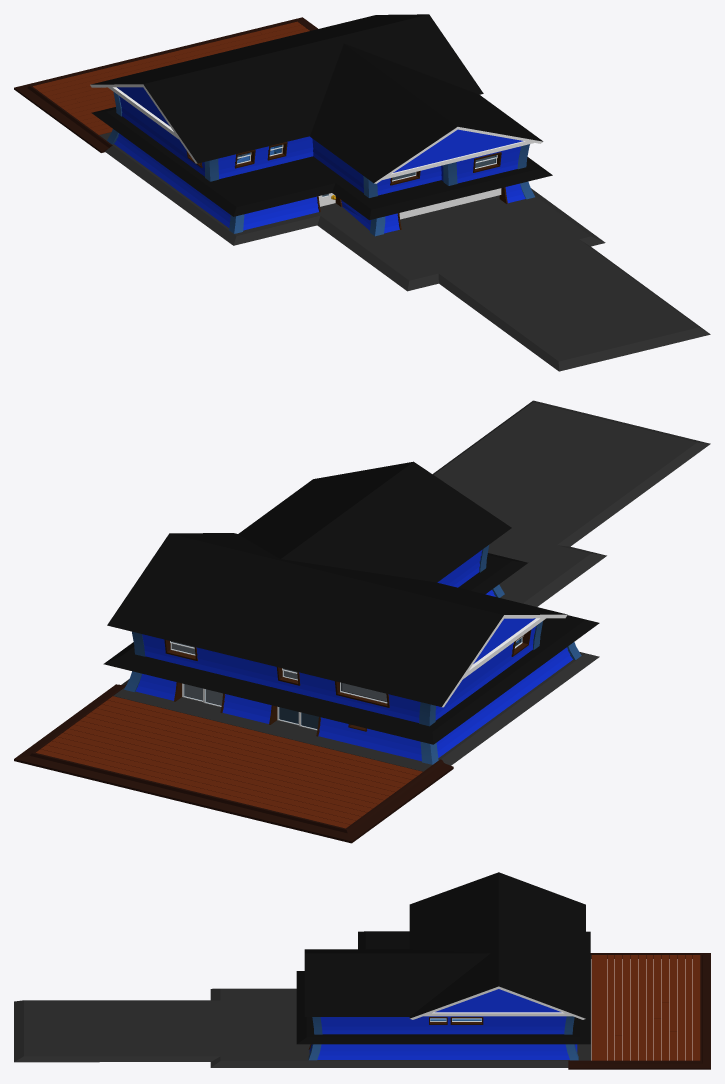
Rendered from House.FBX.
3 views of the same model, one above another, from view 1: azimuth 30°, elevation 25°; view 2: azimuth 150°, elevation 25°; view 3: azimuth 270°, elevation 25° (orthographic). The views are drawn at different scales.
Parts seen in each view (by area): view 1: GroundLayer, Box319, SecondLayer, SecondFloor, FirstFloor, WindowsAndDoors, Box267; view 2: GroundLayer, Box319, SecondLayer, SecondFloor, FirstFloor, WindowsAndDoors; view 3: GroundLayer, Box319, SecondLayer, SecondFloor, FirstFloor, WindowsAndDoors.
Part boxes in pixels (box(x1,y1,x2,y2)): GroundLayer: box(14, 17, 710, 371); Box319: box(90, 14, 543, 183); SecondLayer: box(91, 107, 552, 220); SecondFloor: box(113, 92, 529, 197); FirstFloor: box(107, 129, 534, 236); WindowsAndDoors: box(186, 142, 507, 229); Box267: box(399, 188, 501, 219); GroundLayer: box(14, 400, 710, 843); Box319: box(107, 461, 567, 707); SecondLayer: box(103, 553, 599, 744); SecondFloor: box(132, 545, 542, 726); FirstFloor: box(124, 584, 581, 764); WindowsAndDoors: box(164, 630, 531, 736); GroundLayer: box(14, 953, 710, 1069); Box319: box(304, 872, 585, 1019); SecondLayer: box(296, 931, 590, 1044); SecondFloor: box(312, 1016, 574, 1034); FirstFloor: box(308, 1044, 578, 1060); WindowsAndDoors: box(308, 1017, 483, 1049).
Size of the model in its own units: 5445 by 1806 by 13895.
